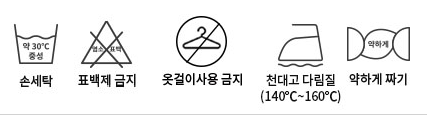KR_gentle_wring: (343, 22, 415, 65)
KR_hand_wash_30_neutral: (11, 18, 61, 67)
KR_no_chlorine_bleach: (79, 16, 136, 69)
